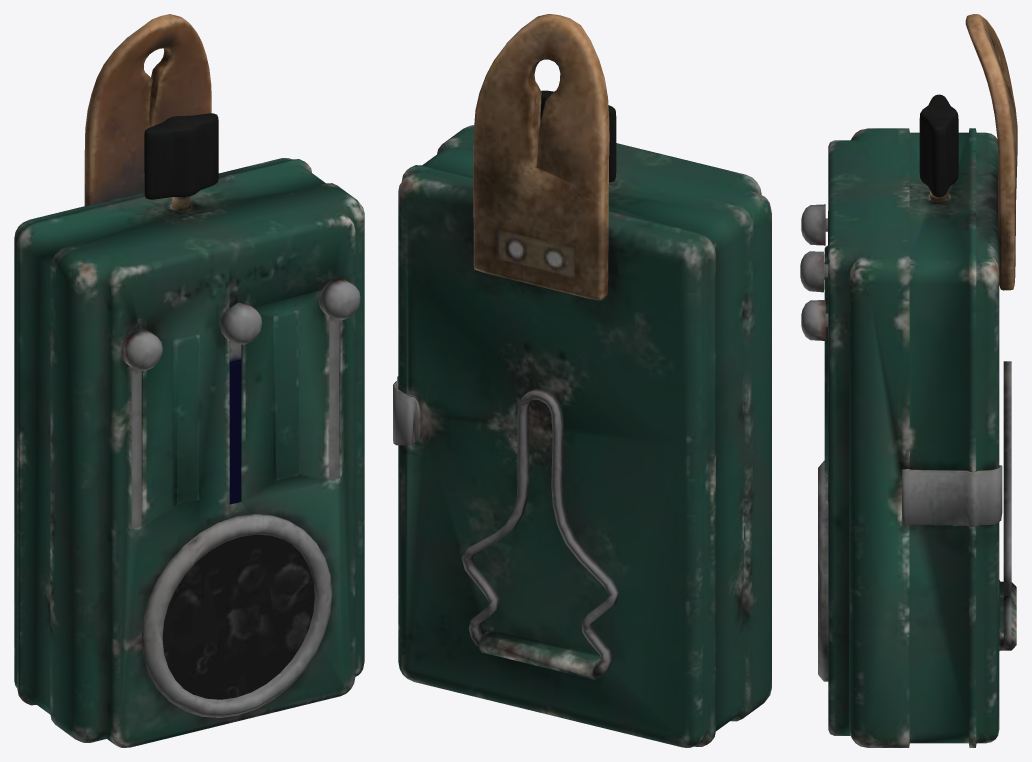
The model's file is signal_flashlight.glb.
3 renders of one model, left to right at view 1: azimuth 30°, elevation 25°; view 2: azimuth 150°, elevation 25°; view 3: azimuth 270°, elevation 25°, orthographic. The views are drawn at different scales.
Parts seen in each view (by area): view 1: signal_flashlight, signal_flashlight_switch, signal_flashlight_signal_b, signal_flashlight_signal_r, signal_flashlight_signal_g; view 2: signal_flashlight, signal_flashlight_clip, signal_flashlight_switch; view 3: signal_flashlight, signal_flashlight_switch, signal_flashlight_clip, signal_flashlight_signal_b, signal_flashlight_signal_r, signal_flashlight_signal_g.
Boxes of the visible parts, x1,y1,x2,y2 form: signal_flashlight: (14, 14, 364, 747); signal_flashlight_switch: (144, 113, 218, 210); signal_flashlight_signal_b: (220, 302, 262, 504); signal_flashlight_signal_r: (318, 278, 360, 479); signal_flashlight_signal_g: (121, 329, 162, 527); signal_flashlight: (393, 14, 771, 747); signal_flashlight_clip: (461, 388, 619, 676); signal_flashlight_switch: (540, 90, 616, 182); signal_flashlight: (818, 14, 1017, 747); signal_flashlight_switch: (919, 94, 958, 201); signal_flashlight_clip: (1003, 361, 1011, 647); signal_flashlight_signal_b: (800, 251, 828, 292); signal_flashlight_signal_r: (801, 300, 828, 340); signal_flashlight_signal_g: (801, 204, 827, 245).
Bounding box in the file's own units: 0.071 × 0.1499 × 0.0445.
2 materials, 2 textured.
